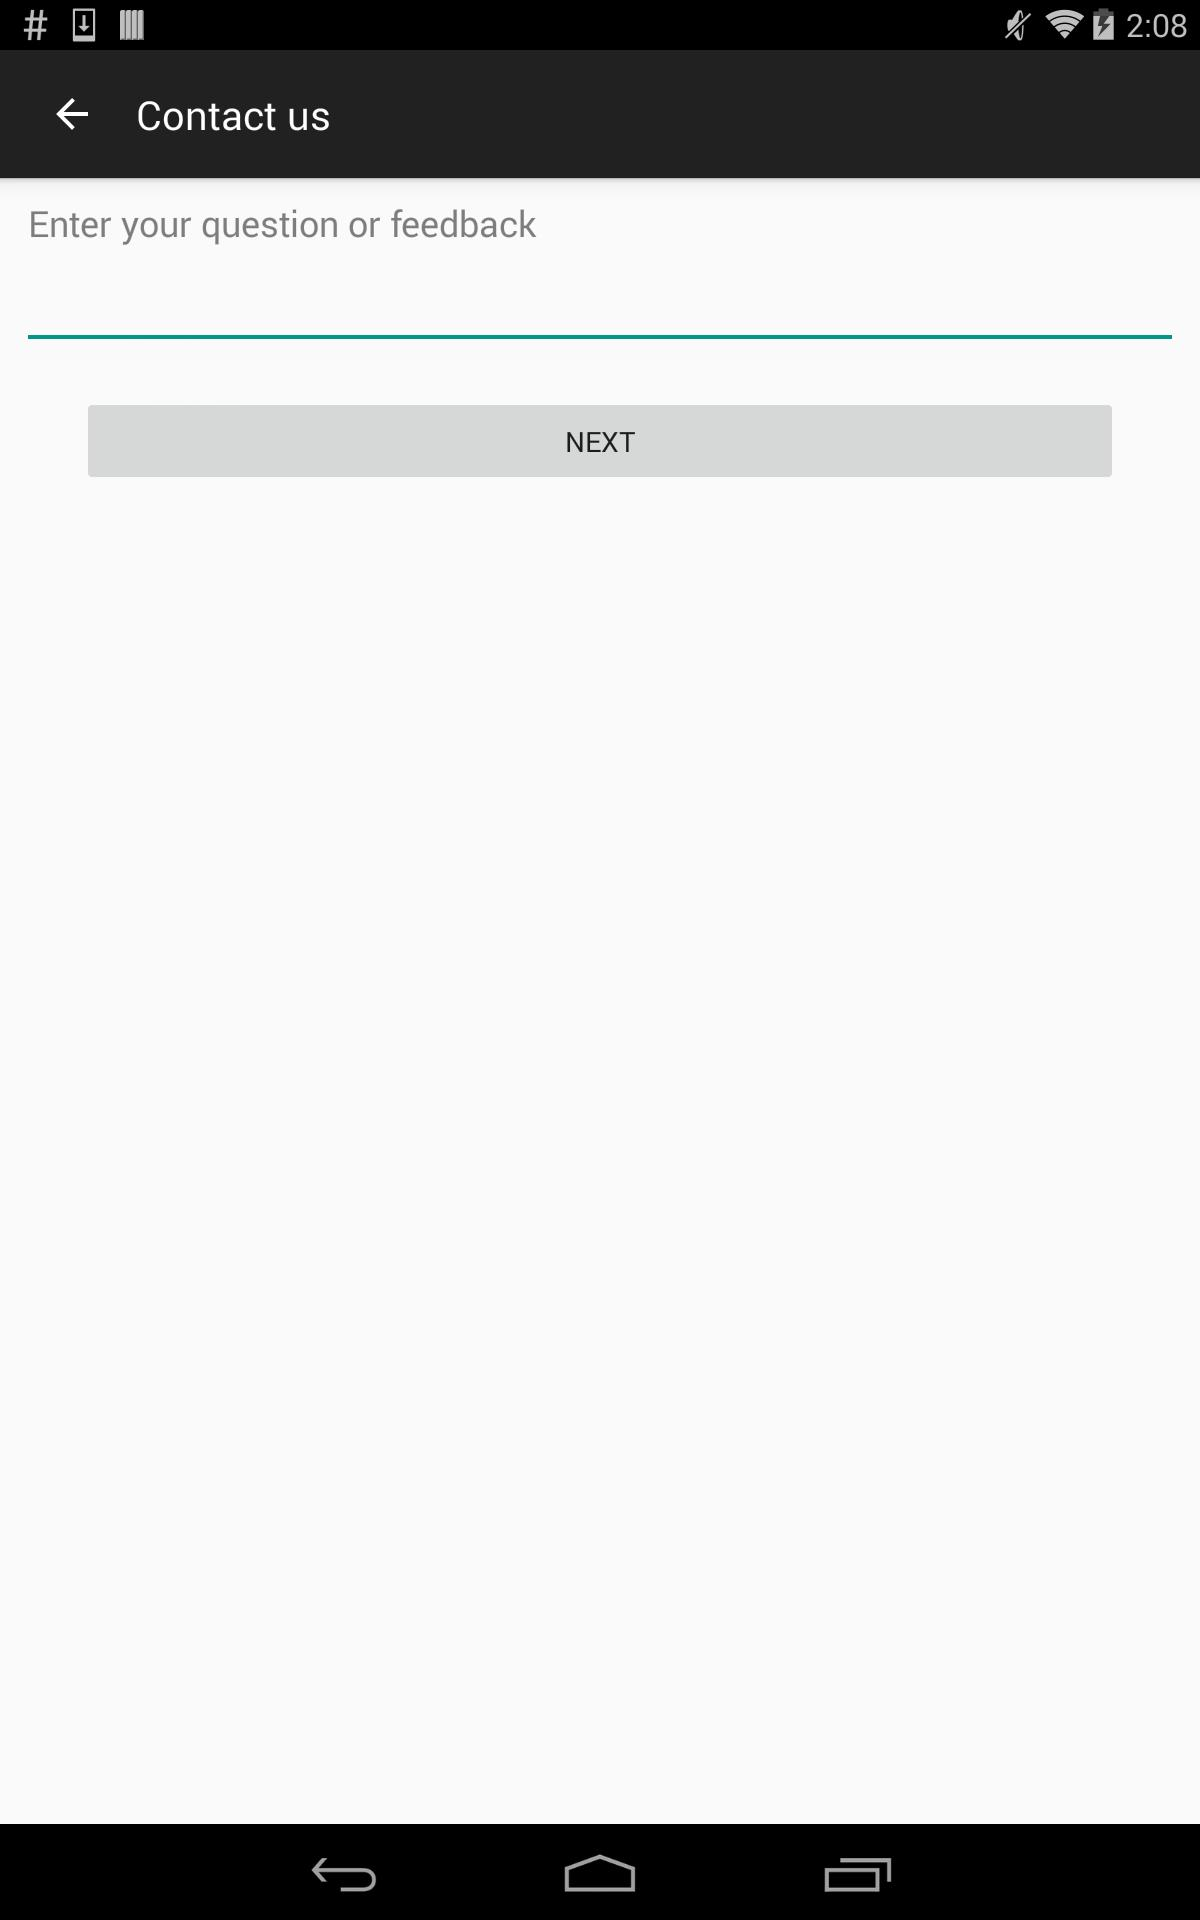android.view.View: (0, 50, 1200, 1825), (0, 50, 1200, 178)
android.widget.Button: (80, 393, 1120, 489)
android.widget.EditText: (19, 178, 1181, 352)
android.widget.FrameLayout: (0, 0, 1200, 1825), (0, 50, 1200, 1825), (0, 178, 1200, 1825), (0, 50, 1200, 178)
android.widget.ImageButton: (17, 50, 129, 178)
android.widget.LinearLayout: (0, 0, 1200, 1825), (0, 352, 1200, 529), (0, 178, 1200, 352)
android.widget.TextView: (135, 87, 330, 141)
android.widget.ViewFlipper: (0, 178, 1200, 1825)
